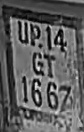1: (43, 24, 54, 52), (21, 72, 30, 104)
4: (53, 27, 69, 55)
6: (43, 78, 60, 114), (30, 78, 45, 108)
7: (57, 85, 73, 115)
G: (30, 52, 45, 76)
P: (29, 23, 41, 47)
T: (43, 54, 58, 77)
U: (16, 20, 30, 47)
